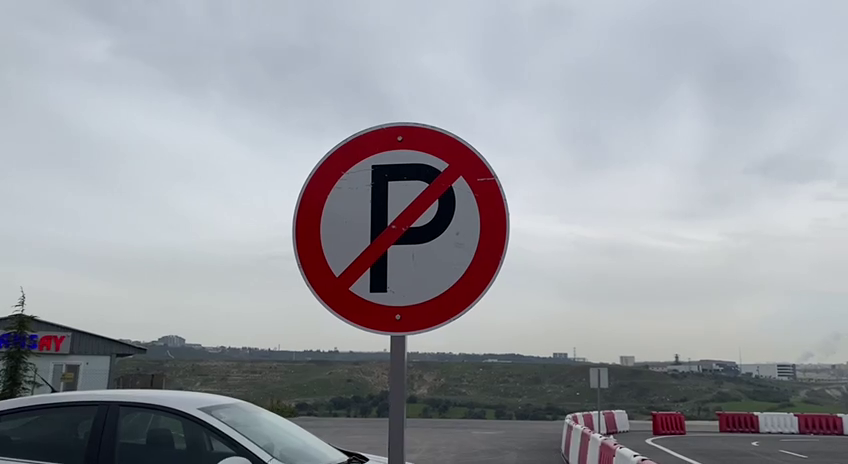noparking: (286, 116, 515, 341)
